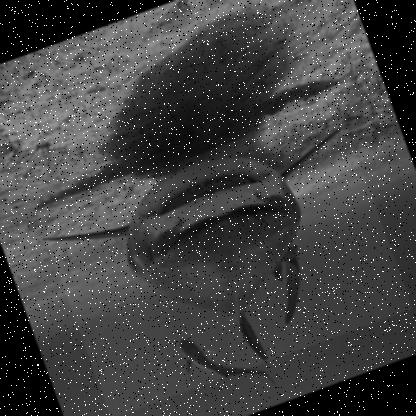tiger-shark: (33, 102, 411, 415)
